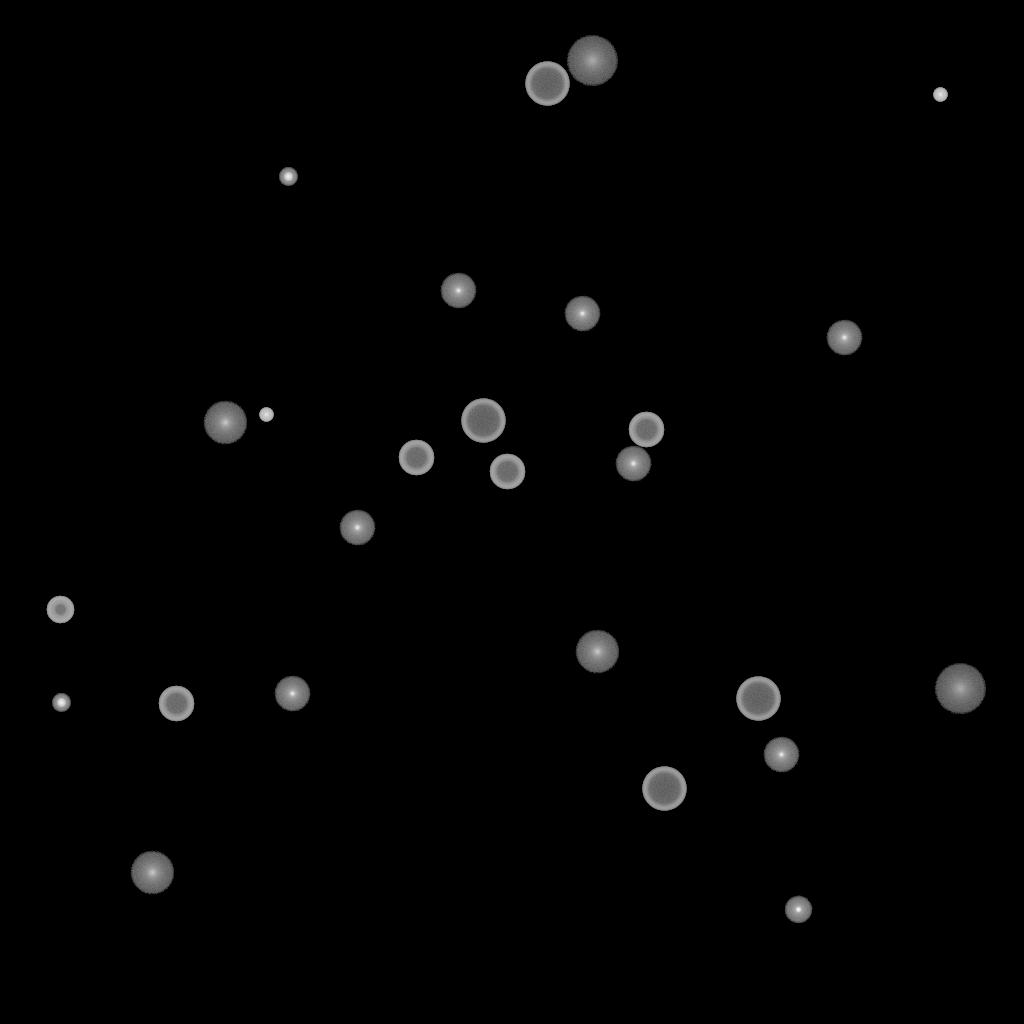depth:-10: (784, 896, 812, 924)
depth:-20: (52, 694, 70, 712), (279, 168, 297, 186)
depth:-30: (933, 88, 947, 102), (259, 408, 273, 422)
depth:-50: (46, 596, 74, 624)
depth:-60: (398, 440, 434, 476), (158, 686, 194, 722), (489, 454, 525, 490), (628, 412, 664, 448)
depth:-70: (736, 677, 780, 721), (461, 399, 505, 443), (525, 62, 569, 106), (642, 767, 686, 811)
depth:0: (615, 446, 651, 482), (274, 676, 310, 712), (564, 296, 600, 332), (440, 273, 476, 309), (826, 320, 862, 356), (339, 510, 375, 546), (763, 737, 799, 773)
depth:10: (130, 851, 174, 895), (203, 401, 247, 445), (575, 630, 619, 674)
depth:20: (934, 664, 986, 714), (566, 36, 618, 86)
